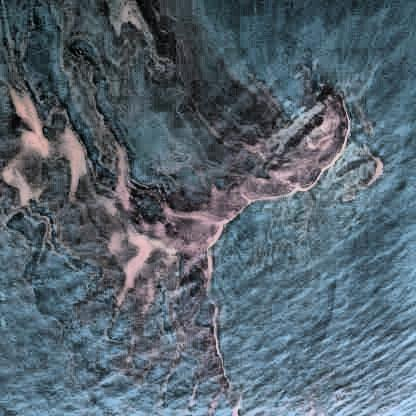truecolor: (0, 0, 350, 416)
